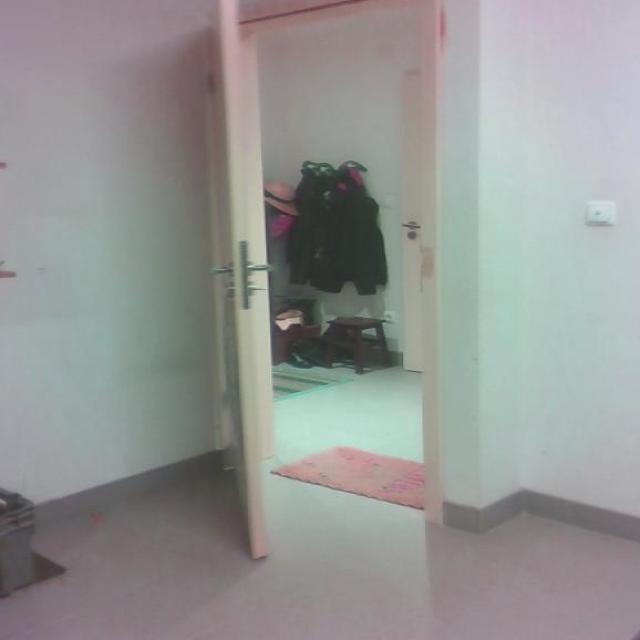door: (195, 1, 290, 561)
